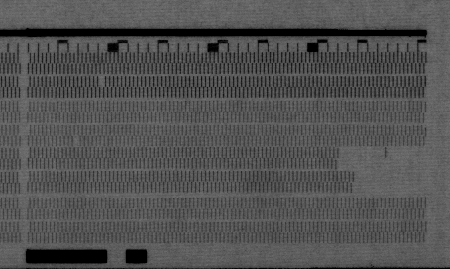Broken hole: (335, 145, 431, 197), (96, 76, 109, 89), (69, 135, 83, 147)
